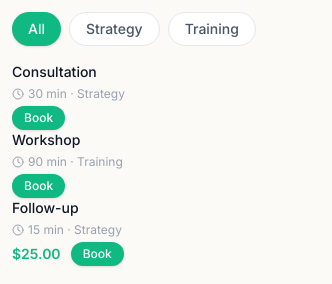
Test: ServiceGrid › filters services when a category pill is clicked
Click the button "Training" at (212, 29), box x1=168 y1=12 x2=256 y2=46
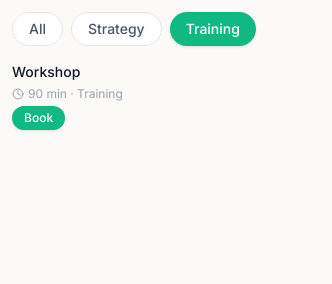
Check: the text "Workshop" is shown, box x1=12 y1=63 x2=80 y2=80
Check: the link "Consultation" is gone
Check: the link "Follow-up" is gone
